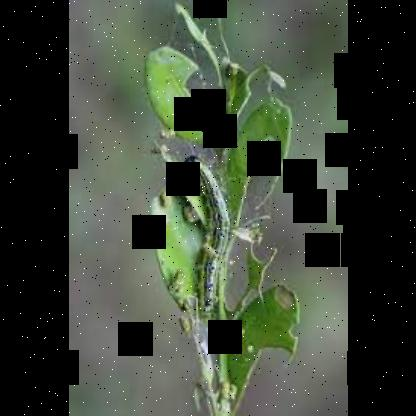agujero: (237, 131, 290, 228), (184, 65, 228, 125), (221, 238, 255, 312), (250, 239, 274, 263), (268, 288, 292, 310), (240, 290, 258, 310), (288, 324, 302, 340)
oruga: (185, 154, 225, 318)
